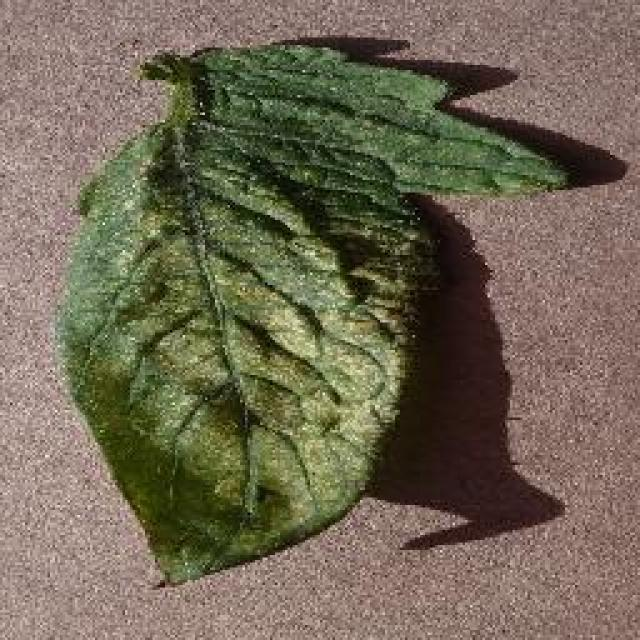Tomato___Spider_mites Two-spotted_spider_mite: (55, 42, 570, 585)
